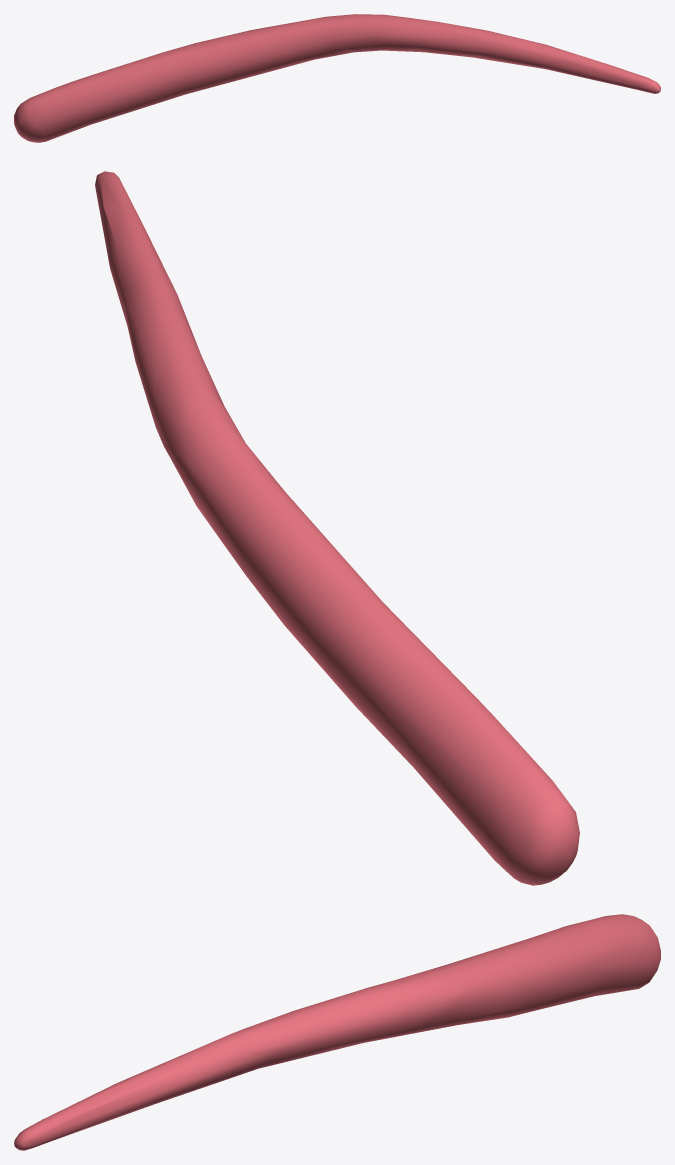
Rendered from fma8667_fj5999.glb.
The picture shows the model from 3 angles, top to bottom: view 1: azimuth 30°, elevation 25°; view 2: azimuth 150°, elevation 25°; view 3: azimuth 270°, elevation 25°; orthographic projection. The views are drawn at different scales.
Visible parts, largest first — view 1: FMA8667_FJ5999; view 2: FMA8667_FJ5999; view 3: FMA8667_FJ5999.
Part boxes in pixels (bbox=[...]): FMA8667_FJ5999: bbox=[14, 14, 660, 142]; FMA8667_FJ5999: bbox=[95, 171, 579, 885]; FMA8667_FJ5999: bbox=[14, 914, 660, 1150].
Bounding box in the file's own units: 0.0527 × 0.0144 × 0.0444.
